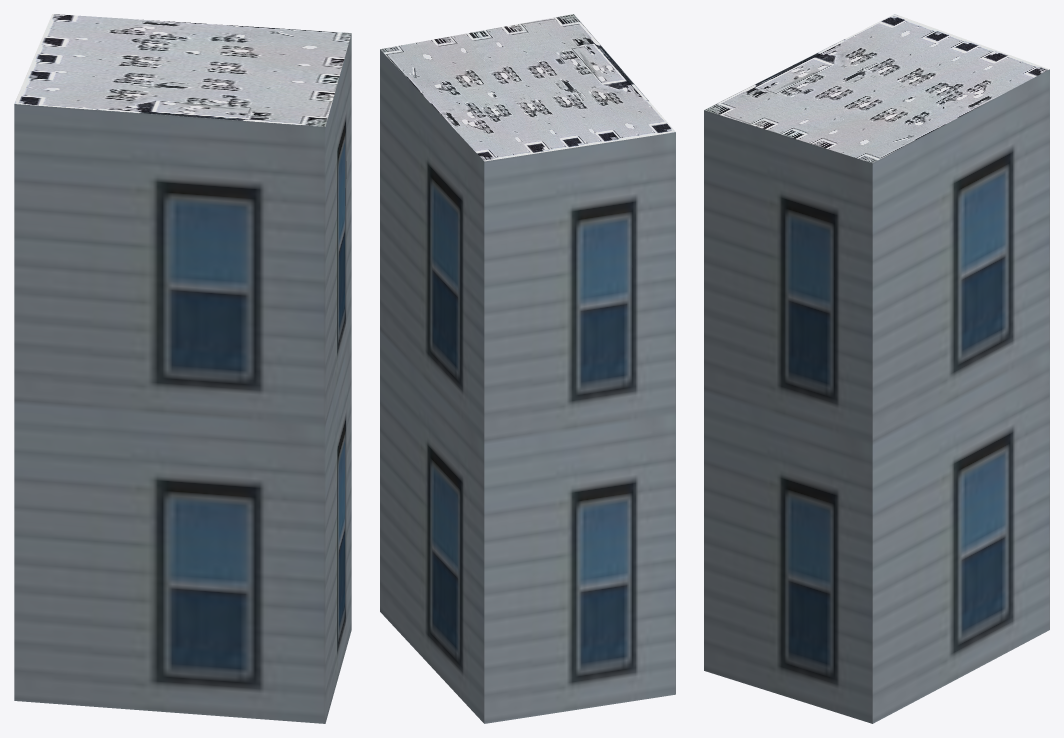
The model's file is ResTex__5032.fbx.
3 renders of one model, left to right at view 1: azimuth 30°, elevation 25°; view 2: azimuth 150°, elevation 25°; view 3: azimuth 270°, elevation 25°, orthographic. The views are drawn at different scales.
Visible parts, largest first — view 1: CityEngineMaterial_18_m, CityEngineMaterial_m; view 2: CityEngineMaterial_18_m, CityEngineMaterial_m; view 3: CityEngineMaterial_18_m, CityEngineMaterial_m.
Part boxes in pixels (x1,y1,x2,y2): CityEngineMaterial_18_m: (14, 34, 351, 723); CityEngineMaterial_m: (14, 14, 351, 126); CityEngineMaterial_18_m: (380, 49, 675, 723); CityEngineMaterial_m: (380, 14, 675, 161); CityEngineMaterial_18_m: (704, 69, 1049, 723); CityEngineMaterial_m: (704, 14, 1049, 163).
Size of the model in its own units: 3.43 by 6 by 3.36.
2 materials, 2 textured.
